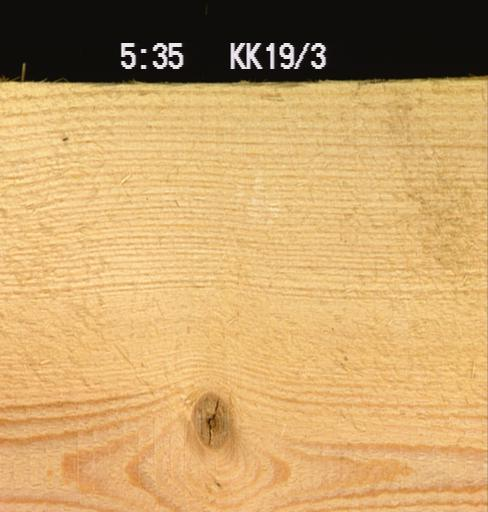sound_knot: (186, 390, 232, 449)
